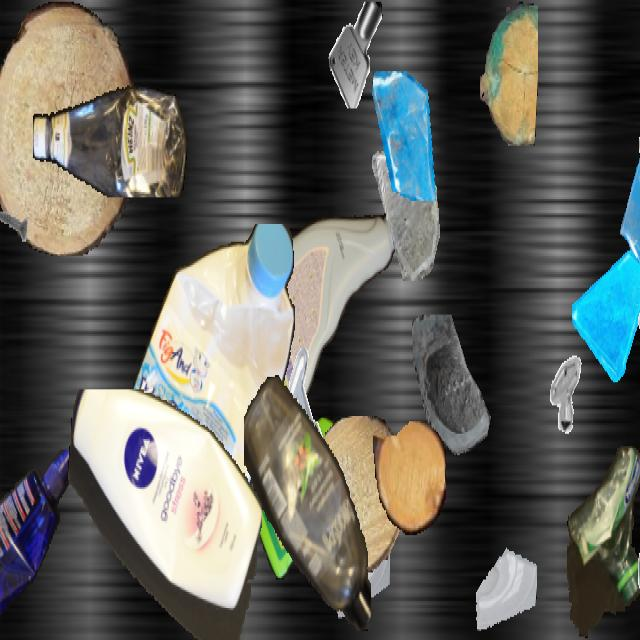glass: (409, 314, 503, 482), (369, 149, 443, 281), (572, 244, 640, 382), (369, 71, 441, 199), (0, 51, 47, 201), (131, 354, 193, 464), (475, 526, 537, 636), (333, 517, 389, 617), (619, 135, 640, 292)
metal: (277, 345, 339, 455), (327, 2, 387, 108), (539, 348, 587, 434), (0, 188, 28, 260), (625, 89, 640, 192), (632, 539, 640, 638), (635, 277, 640, 345)
plastic: (112, 224, 298, 590), (66, 390, 262, 638), (224, 203, 398, 430), (244, 372, 370, 638), (33, 76, 187, 198), (250, 416, 360, 580), (0, 450, 80, 638), (567, 443, 640, 638)
wood: (0, 2, 134, 254), (307, 416, 405, 572), (480, 2, 538, 144), (373, 421, 445, 535)
